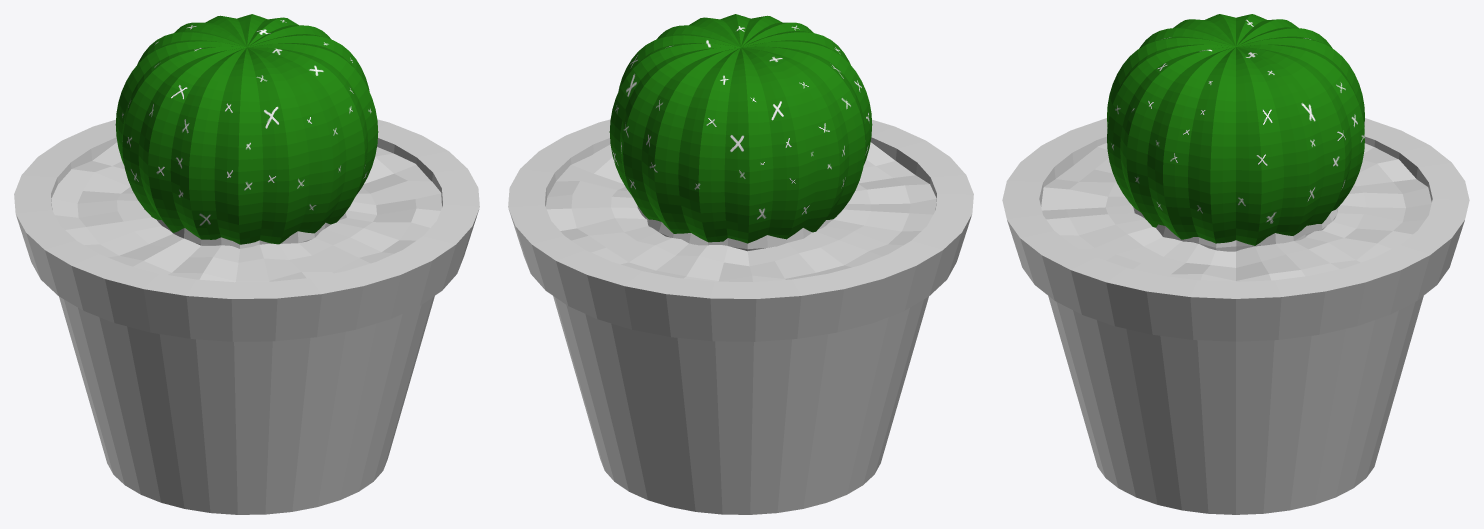
The model's file is PottedPlantCactus.fbx.
3 views of the same model, side by side, from view 1: azimuth 30°, elevation 25°; view 2: azimuth 150°, elevation 25°; view 3: azimuth 270°, elevation 25° (orthographic).
Visible parts, largest first — view 1: Plant Pot, Cactus, Dirt Plane, Dirt Ball; view 2: Plant Pot, Cactus, Dirt Plane, Dirt Ball; view 3: Plant Pot, Cactus, Dirt Plane, Dirt Ball.
Boxes of the visible parts, x1=… form: Plant Pot: x1=14, y1=119, x2=479, y2=514; Cactus: x1=115, y1=14, x2=378, y2=244; Dirt Plane: x1=51, y1=142, x2=441, y2=282; Dirt Ball: x1=144, y1=209, x2=346, y2=248; Plant Pot: x1=508, y1=119, x2=973, y2=514; Cactus: x1=609, y1=14, x2=872, y2=243; Dirt Plane: x1=546, y1=142, x2=936, y2=282; Dirt Ball: x1=637, y1=206, x2=843, y2=251; Plant Pot: x1=1002, y1=118, x2=1469, y2=514; Cactus: x1=1107, y1=14, x2=1364, y2=245; Dirt Plane: x1=1041, y1=143, x2=1431, y2=281; Dirt Ball: x1=1133, y1=207, x2=1338, y2=251.
Bounding box in the file's own units: 331 × 323 × 331.
